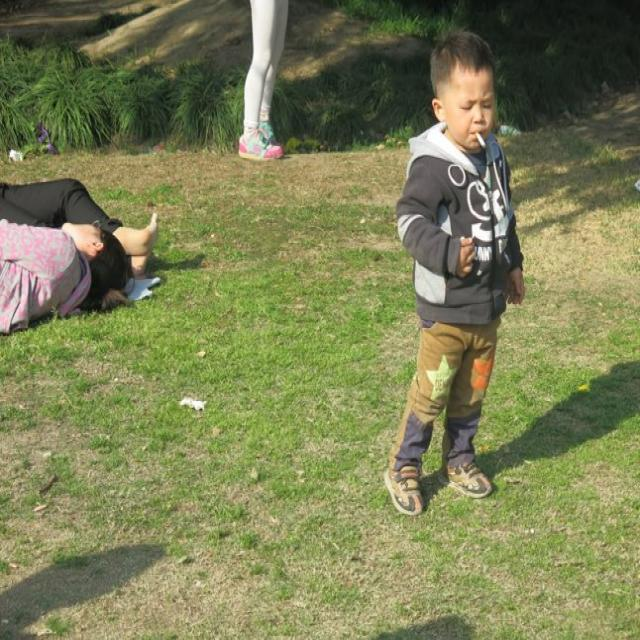cigarette: (475, 131, 487, 149)
